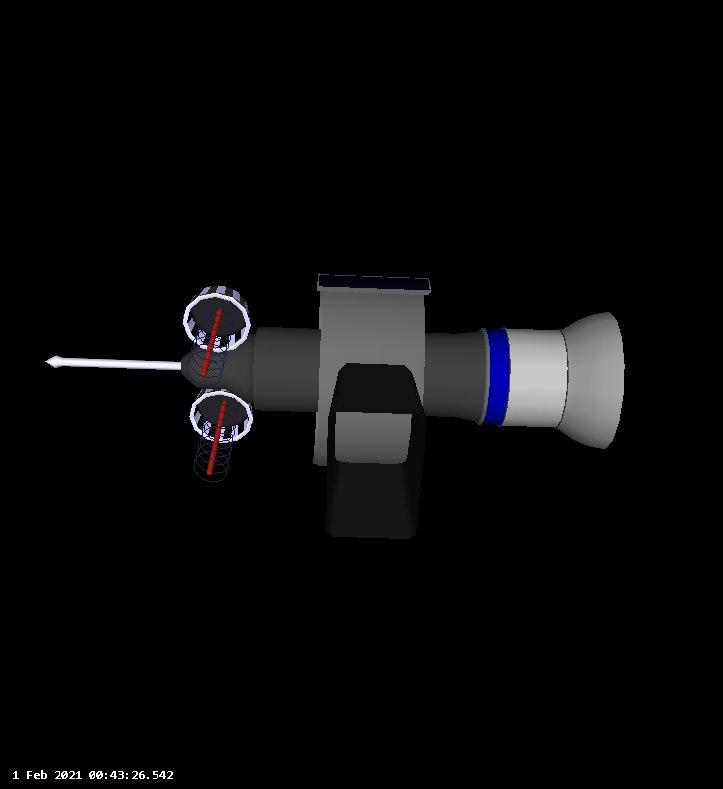antenna: (182, 384, 258, 487), (180, 283, 250, 388), (41, 347, 187, 384)
body: (186, 310, 535, 434)
solar: (318, 270, 434, 300)
thruster: (318, 355, 429, 545), (539, 306, 628, 452)
